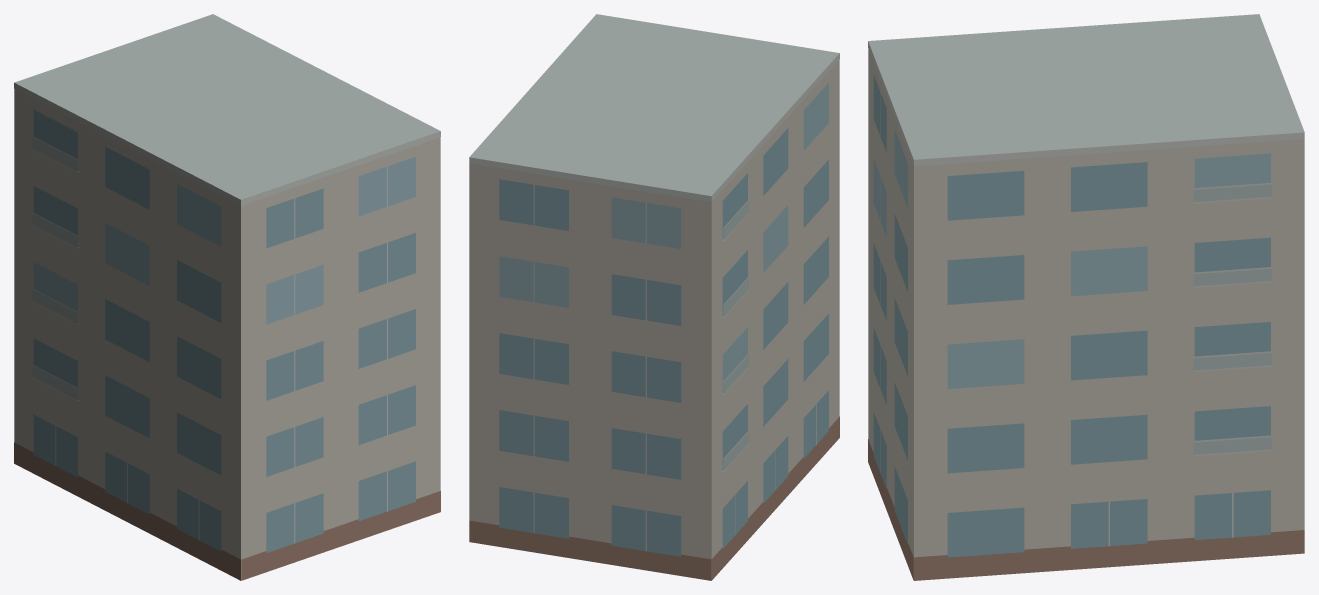
Rendered from survey-upis-32701808.glb.
The picture shows the model from 3 angles, left to right: view 1: azimuth 30°, elevation 25°; view 2: azimuth 150°, elevation 25°; view 3: azimuth 270°, elevation 25°; orthographic projection. The views are drawn at different scales.
Parts seen in each view (by area): view 1: survey-upis-32701808.tmp; view 2: survey-upis-32701808.tmp; view 3: survey-upis-32701808.tmp.
Boxes of the visible parts, left/top/right/bottom form: survey-upis-32701808.tmp: left=14, top=14, right=440, bottom=580; survey-upis-32701808.tmp: left=469, top=14, right=839, bottom=580; survey-upis-32701808.tmp: left=868, top=14, right=1304, bottom=580.
Bounding box in the file's own units: 11.52 × 15.5 × 14.58.
